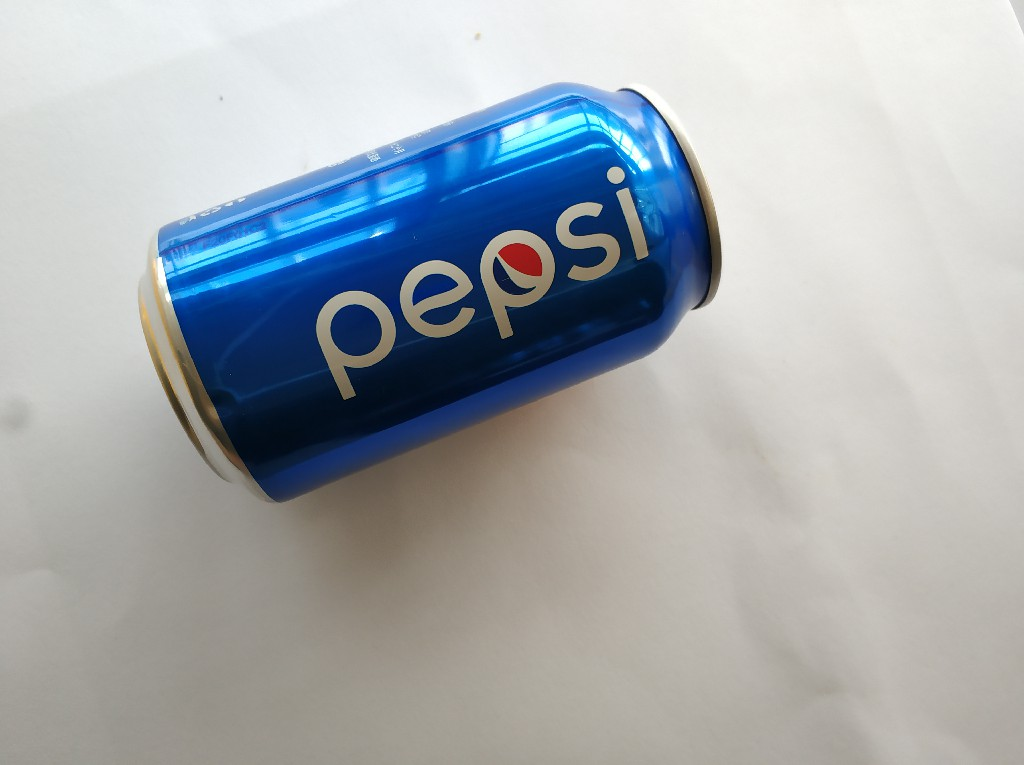can: (132, 79, 725, 506)
